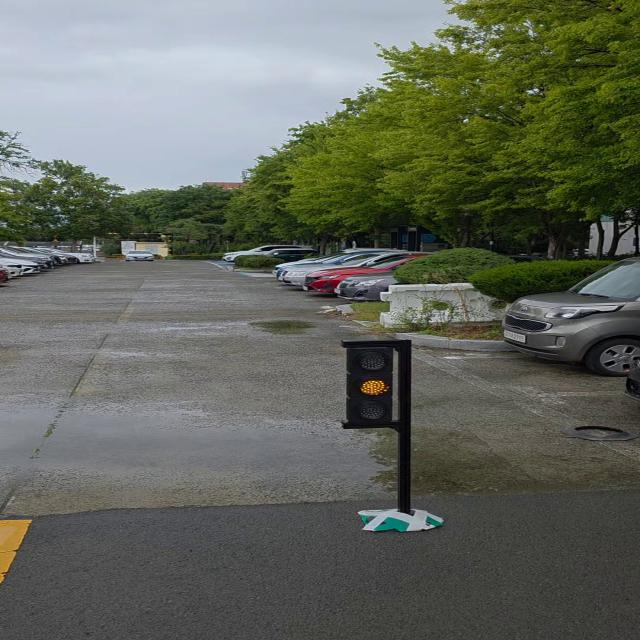yellow: (341, 339, 403, 433)
